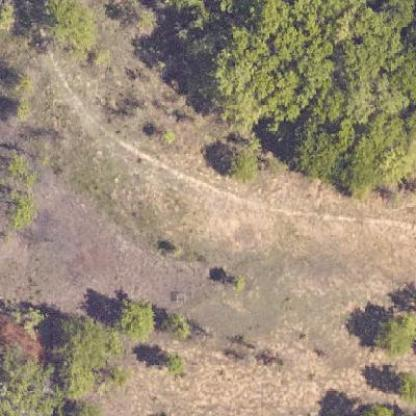tree-top: (52, 309, 103, 397), (1, 341, 53, 413), (40, 0, 96, 55), (288, 125, 336, 176), (369, 312, 414, 359), (210, 144, 259, 182), (115, 297, 157, 338), (159, 307, 191, 341), (390, 370, 415, 402), (160, 350, 186, 374)
